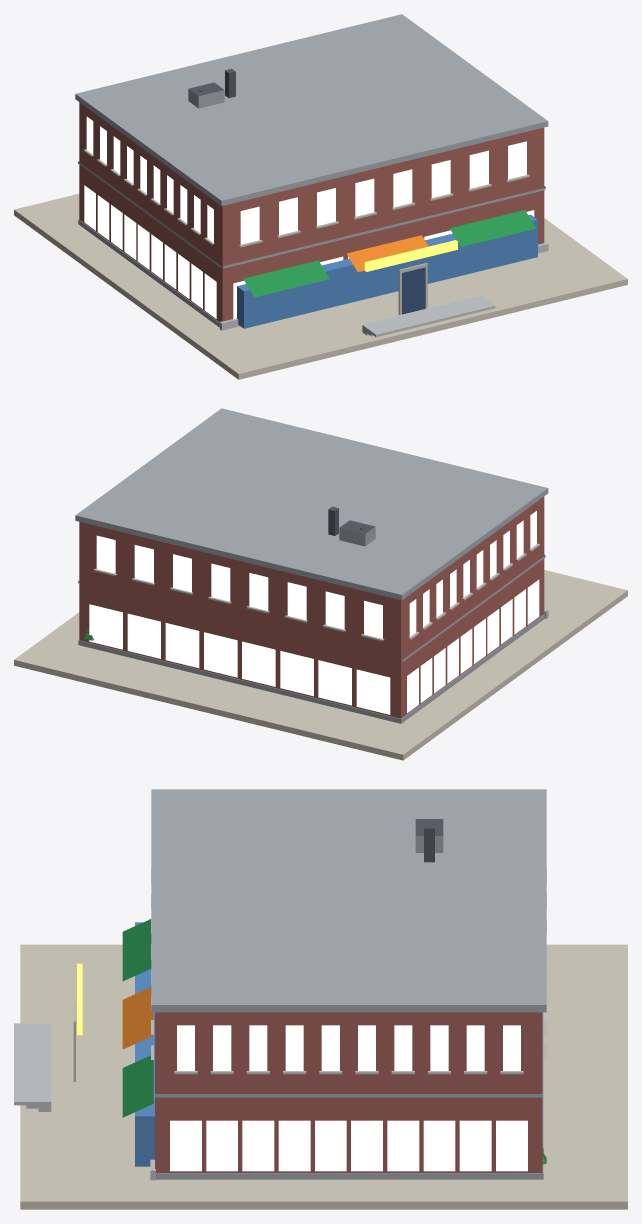
The picture shows the model from 3 angles, top to bottom: view 1: azimuth 30°, elevation 25°; view 2: azimuth 150°, elevation 25°; view 3: azimuth 270°, elevation 25°; orthographic projection. The views are drawn at different scales.
Parts seen in each view (by area): view 1: b14_x2; view 2: b14_x2; view 3: b14_x2.
Part boxes in pixels (bbox=[...]): b14_x2: bbox=[14, 14, 627, 379]; b14_x2: bbox=[14, 408, 627, 760]; b14_x2: bbox=[14, 789, 627, 1209].
Size of the model in its own units: 1.96 by 0.785 by 1.98.
